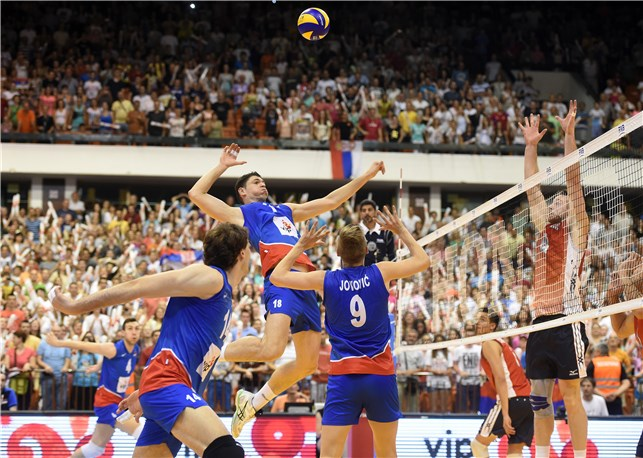volleyball: (297, 5, 330, 42)
